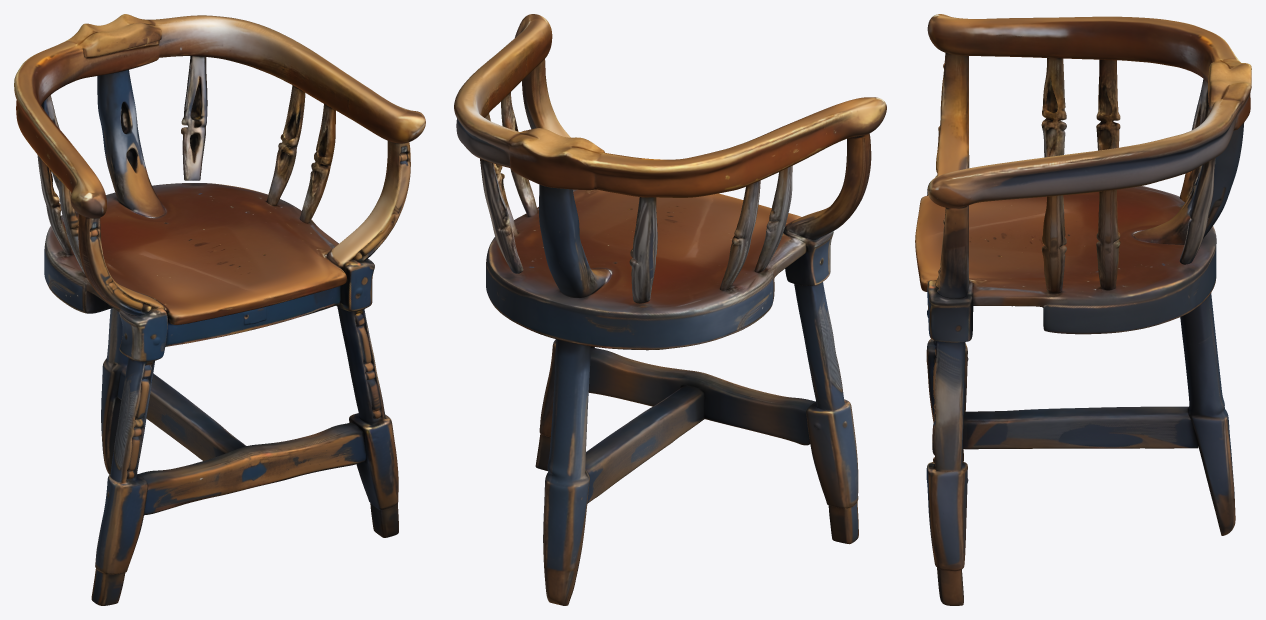
The picture shows the model from 3 angles, left to right: view 1: azimuth 30°, elevation 25°; view 2: azimuth 150°, elevation 25°; view 3: azimuth 270°, elevation 25°; orthographic projection. The views are drawn at different scales.
Visible parts, largest first — view 1: root.0, root.1, root.5, root.2, root.3, root.4, root.6, root.7, root.10, root.11, root.12, root.9; view 2: root.0, root.1, root.2, root.4, root.5, root.3, root.8, root.7, root.12, root.9, root.11; view 3: root.1, root.0, root.3, root.4, root.2, root.5, root.9, root.10, root.11, root.12, root.7, root.8.
Boxes of the visible parts, x1=… form: root.0: x1=44, y1=183, x2=346, y2=324; root.1: x1=14, y1=14, x2=425, y2=218; root.5: x1=78, y1=214, x2=167, y2=605; root.2: x1=117, y1=367, x2=366, y2=515; root.3: x1=326, y1=141, x2=410, y2=537; root.4: x1=97, y1=70, x2=165, y2=474; root.6: x1=165, y1=286, x2=340, y2=346; root.7: x1=181, y1=56, x2=207, y2=180; root.10: x1=266, y1=85, x2=305, y2=205; root.11: x1=299, y1=104, x2=335, y2=223; root.12: x1=37, y1=155, x2=73, y2=255; root.9: x1=58, y1=179, x2=84, y2=273; root.0: x1=486, y1=189, x2=806, y2=350; root.1: x1=454, y1=14, x2=886, y2=197; root.2: x1=585, y1=347, x2=815, y2=503; root.4: x1=539, y1=184, x2=610, y2=605; root.5: x1=783, y1=133, x2=871, y2=544; root.3: x1=522, y1=59, x2=594, y2=470; root.8: x1=629, y1=197, x2=657, y2=303; root.7: x1=480, y1=158, x2=523, y2=273; root.12: x1=720, y1=180, x2=760, y2=290; root.9: x1=754, y1=166, x2=792, y2=272; root.11: x1=501, y1=92, x2=537, y2=216; root.1: x1=927, y1=14, x2=1251, y2=208; root.0: x1=915, y1=186, x2=1216, y2=334; root.3: x1=926, y1=205, x2=973, y2=605; root.4: x1=1134, y1=122, x2=1244, y2=535; root.2: x1=934, y1=356, x2=1198, y2=449; root.5: x1=926, y1=53, x2=969, y2=461; root.9: x1=1041, y1=58, x2=1066, y2=157; root.10: x1=1096, y1=189, x2=1120, y2=290; root.11: x1=1041, y1=195, x2=1066, y2=293; root.12: x1=1096, y1=59, x2=1120, y2=150; root.7: x1=1179, y1=158, x2=1215, y2=264; root.8: x1=1179, y1=79, x2=1209, y2=202.
Size of the model in its own units: 0.5883 by 0.725 by 0.4818.
Materials: 13 (13 with a texture image).
